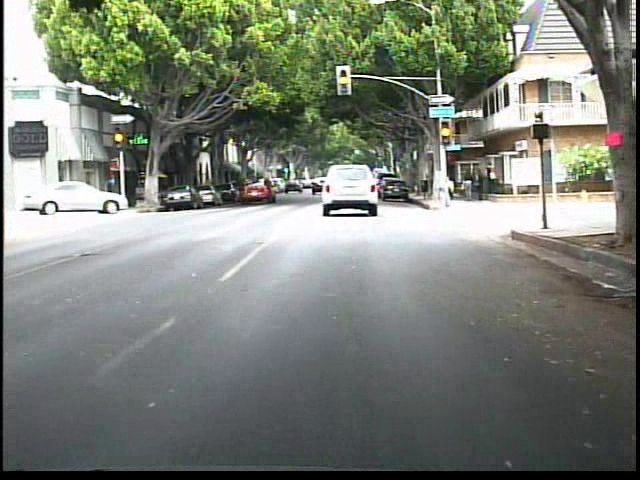person: (437, 172, 458, 211), (461, 169, 477, 204), (475, 167, 489, 204), (483, 160, 497, 196)
